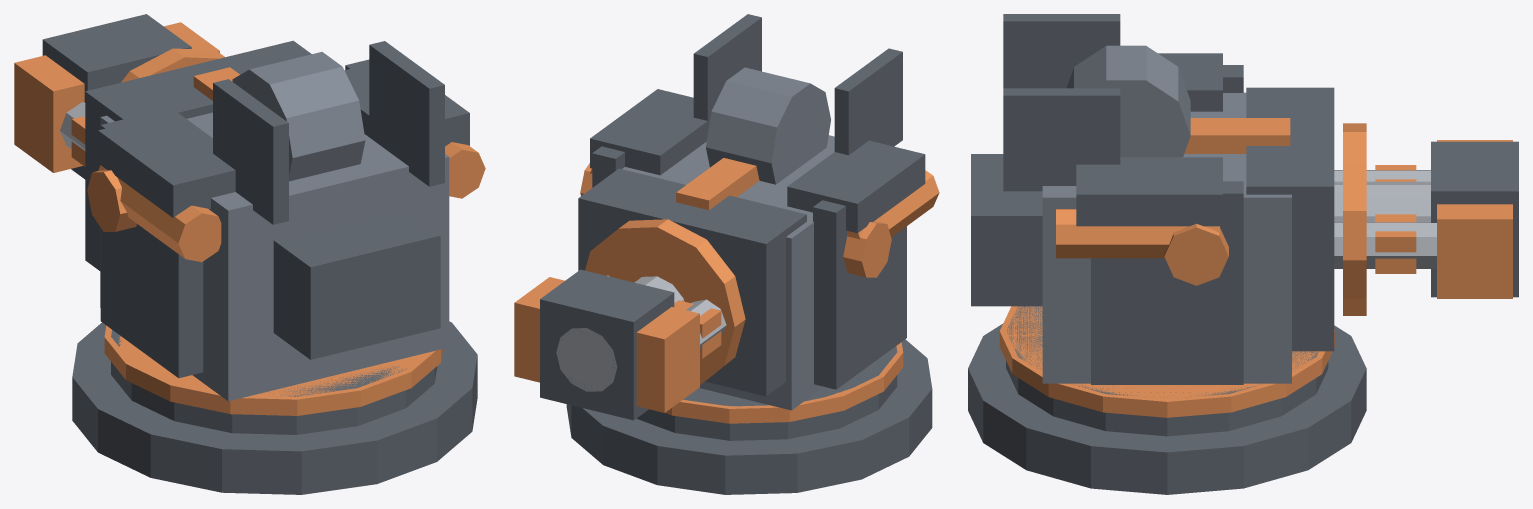
The model's file is cannon.glb.
The picture shows the model from 3 angles, left to right: view 1: azimuth 30°, elevation 25°; view 2: azimuth 150°, elevation 25°; view 3: azimuth 270°, elevation 25°; orthographic projection. The views are drawn at different scales.
Visible parts, largest first — view 1: Cannon_T7_BaseCollar, Cannon_Housing, Cannon_T2_Counterweight, Cannon_T2_BraceL, Cannon_T4_Drum, Cannon_AccentRing, Cannon_T5_ShoulderL, Cannon_T5_Mantlet, Cannon_T7_FinR, Cannon_T7_FinL, Cannon_Base, Cannon_T7_MuzzleBrake (+10 smaller); view 2: Cannon_T7_BaseCollar, Cannon_T5_Mantlet, Cannon_T2_BraceL, Cannon_T7_MuzzleBrake, Cannon_T4_Drum, Cannon_T6_Emitter, Cannon_Housing, Cannon_T5_ShoulderL, Cannon_T5_ShoulderR, Cannon_Base, Cannon_T7_VentL, Cannon_T7_FinL (+10 smaller); view 3: Cannon_T7_BaseCollar, Cannon_T2_BraceR, Cannon_Housing, Cannon_T5_Mantlet, Cannon_T7_FinR, Cannon_AccentRing, Cannon_T5_ShoulderR, Cannon_T2_Counterweight, Cannon_T4_Drum, Cannon_Base, Cannon_T7_VentR, Cannon_T7_FinL (+10 smaller).
Part boxes in pixels (x1,y1,x2,y2): Cannon_T7_BaseCollar: (72, 321, 477, 494); Cannon_Housing: (100, 112, 449, 401); Cannon_T2_Counterweight: (273, 208, 440, 359); Cannon_T2_BraceL: (100, 118, 203, 378); Cannon_T4_Drum: (232, 52, 365, 181); Cannon_AccentRing: (104, 325, 442, 415); Cannon_T5_ShoulderL: (98, 111, 235, 217); Cannon_T5_Mantlet: (85, 40, 311, 270); Cannon_T7_FinR: (369, 41, 444, 186); Cannon_T7_FinL: (213, 79, 288, 224); Cannon_Base: (111, 330, 437, 434); Cannon_T7_MuzzleBrake: (42, 14, 191, 179); Cannon_T7_BaseCollar: (566, 339, 932, 494); Cannon_T5_Mantlet: (578, 168, 806, 396); Cannon_T2_BraceL: (813, 200, 906, 389); Cannon_T7_MuzzleBrake: (540, 269, 674, 420); Cannon_T4_Drum: (706, 67, 830, 184); Cannon_T6_Emitter: (585, 219, 745, 384); Cannon_Housing: (622, 135, 834, 410); Cannon_T5_ShoulderL: (787, 140, 925, 233); Cannon_T5_ShoulderR: (590, 89, 710, 175); Cannon_Base: (636, 346, 897, 440); Cannon_T7_VentL: (636, 307, 699, 412); Cannon_T7_FinL: (834, 48, 902, 155); Cannon_T7_BaseCollar: (968, 324, 1366, 494); Cannon_T2_BraceR: (1091, 181, 1243, 384); Cannon_Housing: (1042, 92, 1291, 383); Cannon_T5_Mantlet: (1246, 87, 1334, 351); Cannon_T7_FinR: (1003, 88, 1120, 191); Cannon_AccentRing: (999, 306, 1334, 417); Cannon_T5_ShoulderR: (1076, 157, 1222, 226); Cannon_T2_Counterweight: (971, 154, 1042, 306); Cannon_T4_Drum: (1066, 45, 1190, 157); Cannon_Base: (1006, 306, 1328, 436); Cannon_T7_VentR: (1437, 204, 1512, 298); Cannon_T7_FinL: (1003, 14, 1120, 88).
Size of the model in its own units: 1.36 by 1.34 by 1.88.
